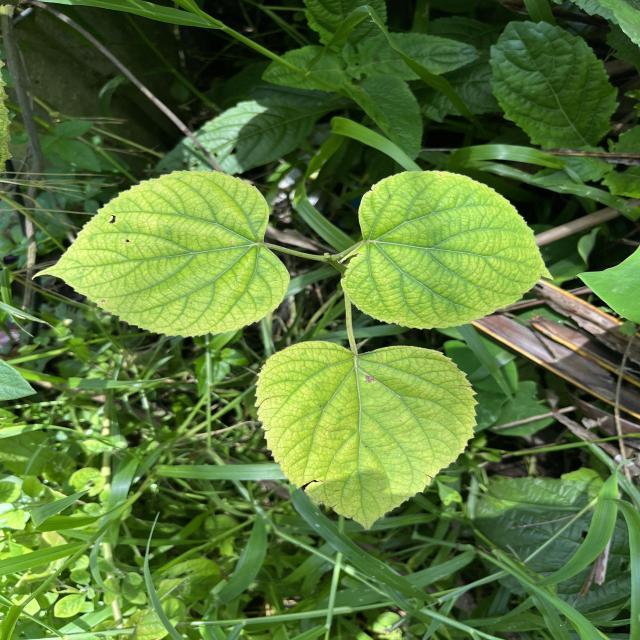Clerodendrum infortunatum: (31, 168, 292, 339), (252, 338, 480, 533), (339, 169, 555, 332)
